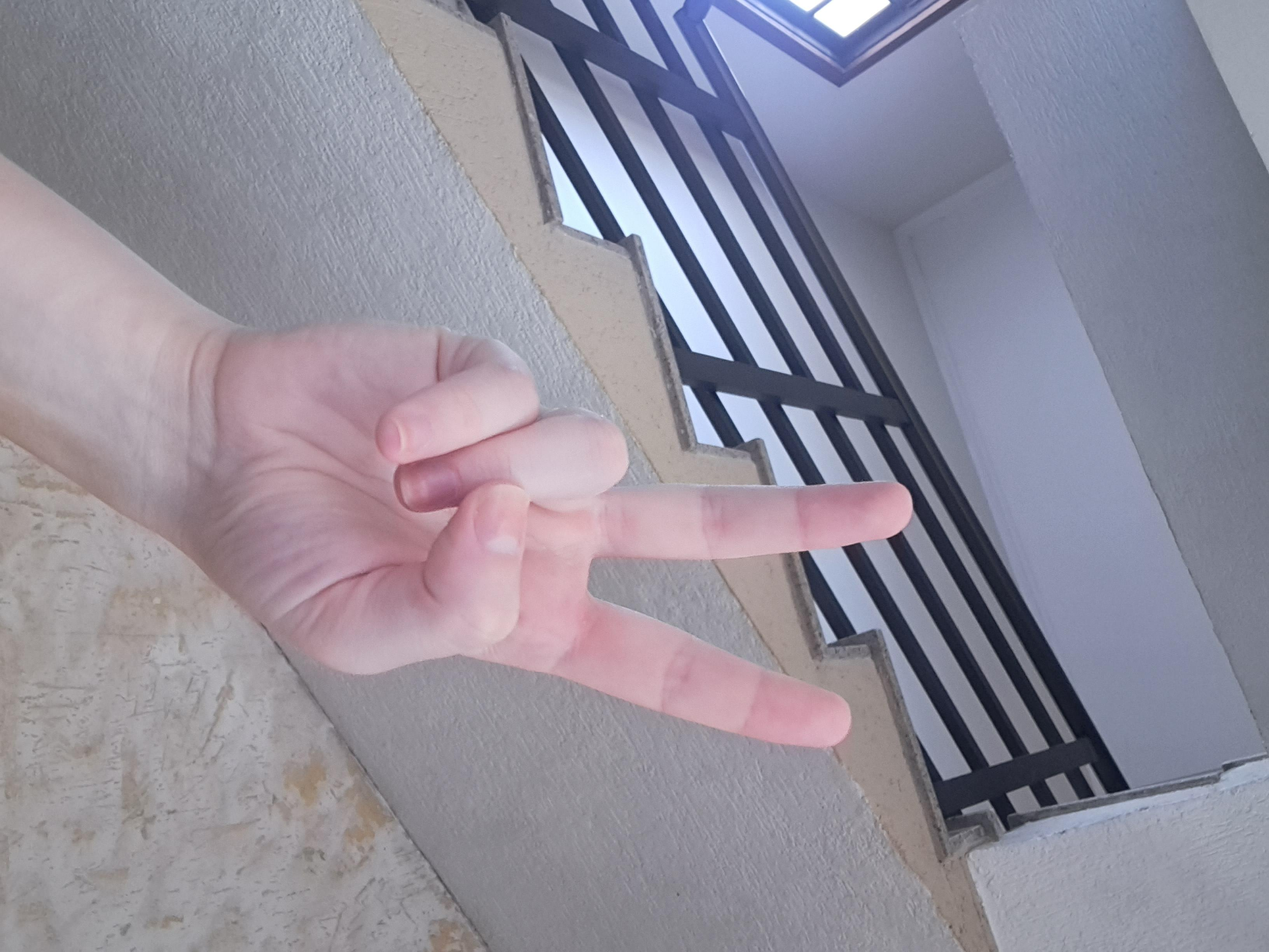V: (415, 257, 1021, 814)
